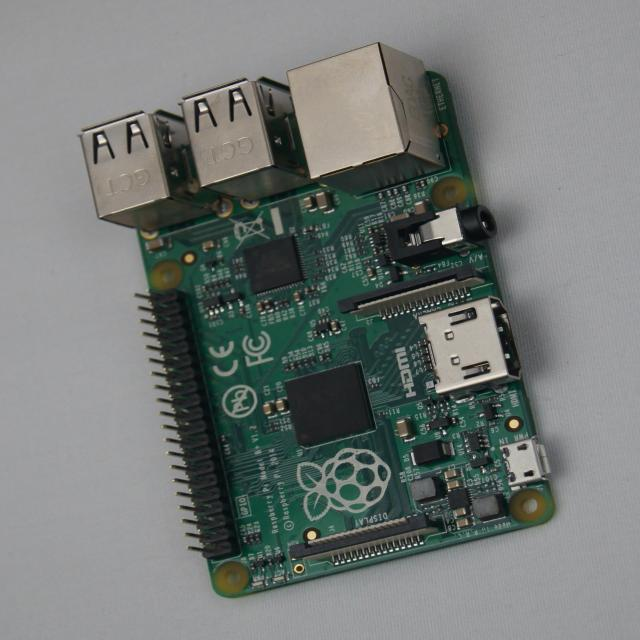Raspberry Pi 1 B-: (82, 44, 554, 597)
